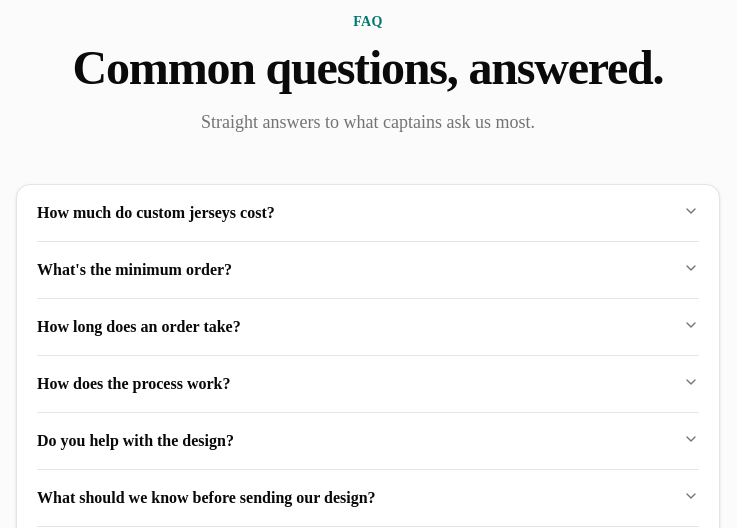
F-03: the rendered FAQ (signed-out visitor) › design: the open panel reads exactly as the approved text (each heading, paragraph, list item and fine print)
This screenshot has width=737, height=528.
Click the button "Do you help with the design?": [135, 440] box 37,413 -> 699,469
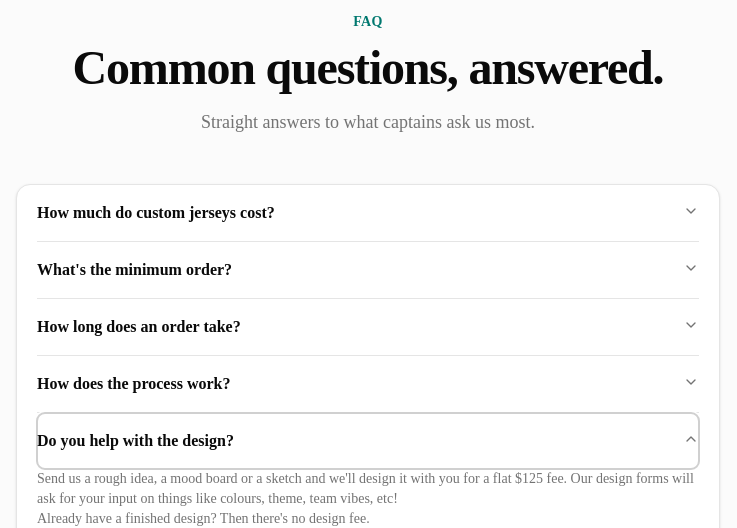
Check: the button "Do you help with the design?" is expanded, box 37,413 -> 699,469
